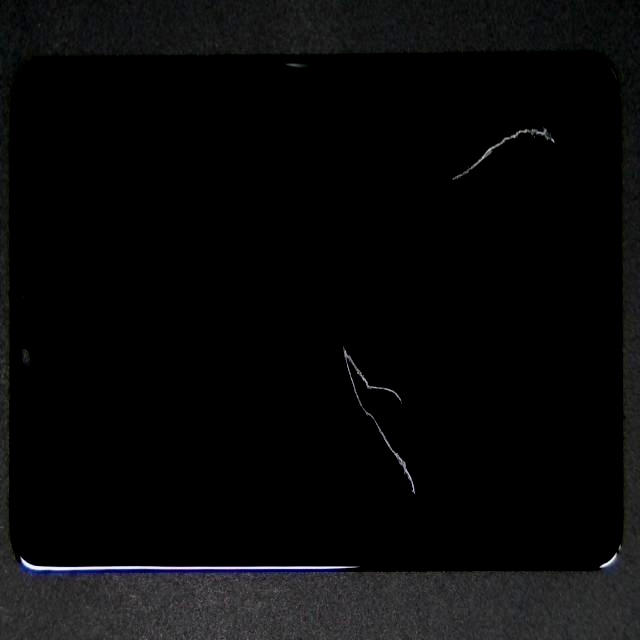scratch: (266, 333, 616, 640), (283, 86, 640, 218)
